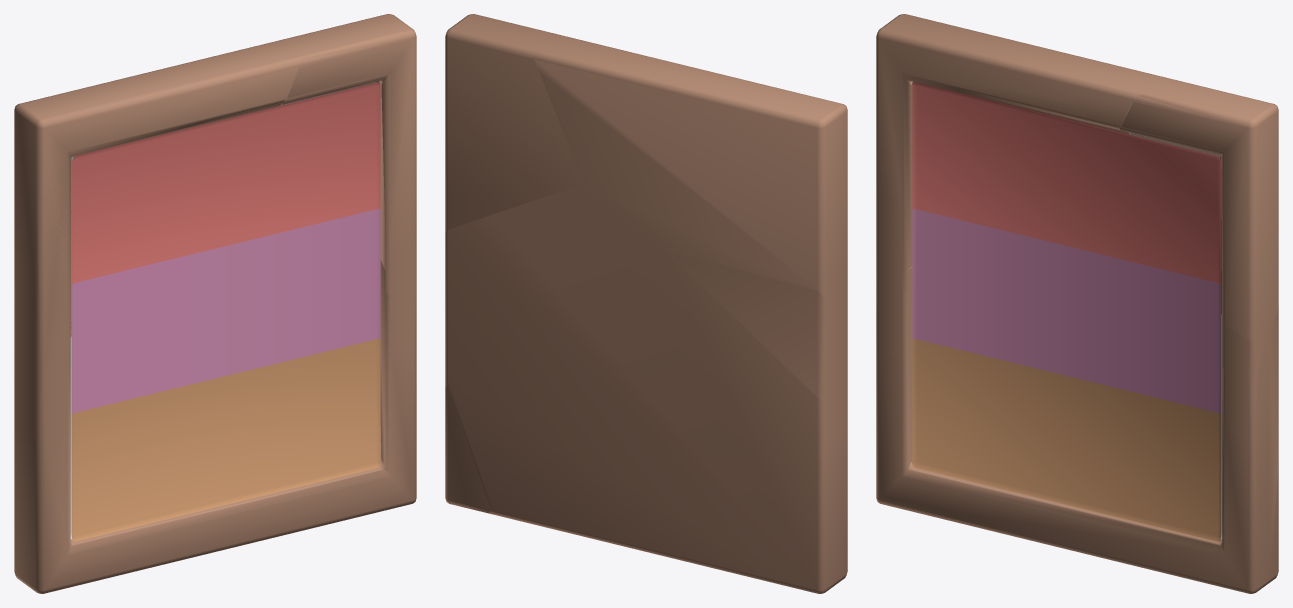
Rendered from Picture_frame.003.fbx.
3 views of the same model, side by side, from view 1: azimuth 30°, elevation 25°; view 2: azimuth 150°, elevation 25°; view 3: azimuth 330°, elevation 25° (orthographic).
Visible parts, largest first — view 1: Picture_frame.003, Picture_frame.003_cell.003, Picture_frame.003_cell.006, Picture.003, Picture_frame.003_cell.004; view 2: Picture_frame.003_cell.004, Picture_frame.003, Picture_frame.003_cell.003, Picture_frame.003_cell.002, Picture_frame.003_cell.001; view 3: Picture_frame.003, Picture.003, Picture_frame.003_cell.006, Picture_frame.003_cell.004, Picture_frame.003_cell.003.
Part boxes in pixels (bbox=[...]): Picture_frame.003: bbox=[14, 14, 416, 593]; Picture_frame.003_cell.003: bbox=[37, 66, 298, 368]; Picture_frame.003_cell.006: bbox=[282, 18, 416, 249]; Picture.003: bbox=[72, 82, 380, 483]; Picture_frame.003_cell.004: bbox=[36, 260, 416, 593]; Picture_frame.003_cell.004: bbox=[445, 184, 822, 593]; Picture_frame.003: bbox=[445, 14, 847, 593]; Picture_frame.003_cell.003: bbox=[534, 59, 847, 289]; Picture_frame.003_cell.002: bbox=[666, 249, 826, 398]; Picture_frame.003_cell.001: bbox=[445, 386, 490, 513]; Picture_frame.003: bbox=[876, 14, 1278, 592]; Picture.003: bbox=[912, 82, 1220, 499]; Picture_frame.003_cell.006: bbox=[1121, 94, 1278, 341]; Picture_frame.003_cell.004: bbox=[876, 268, 1278, 593]; Picture_frame.003_cell.003: bbox=[876, 54, 1136, 276].
Size of the model in its own units: 77.11 by 92.11 by 9.69.
